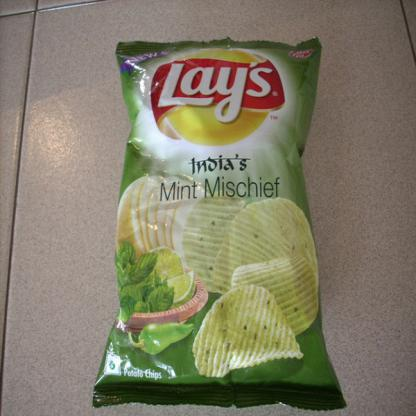potatochip: (89, 27, 352, 415)
